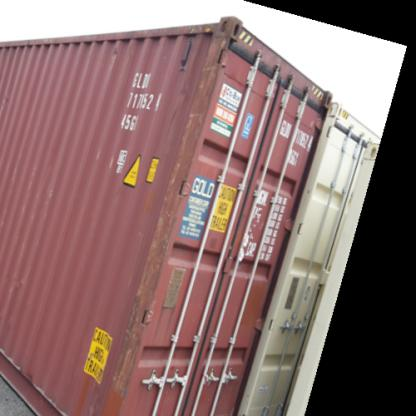Damage: (119, 185, 186, 389), (171, 14, 242, 187)
